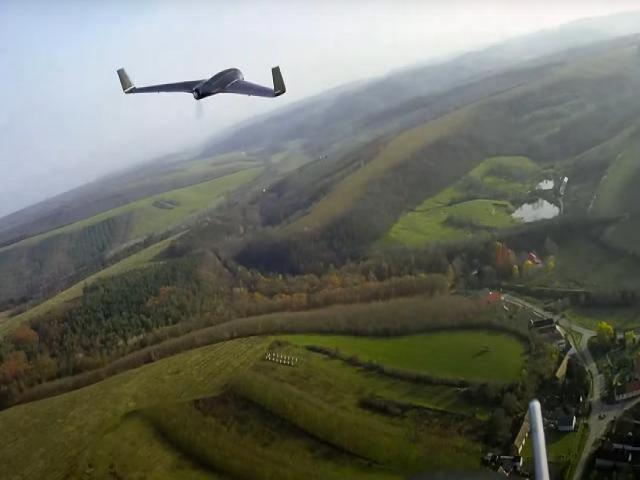iha: (113, 59, 289, 99)
